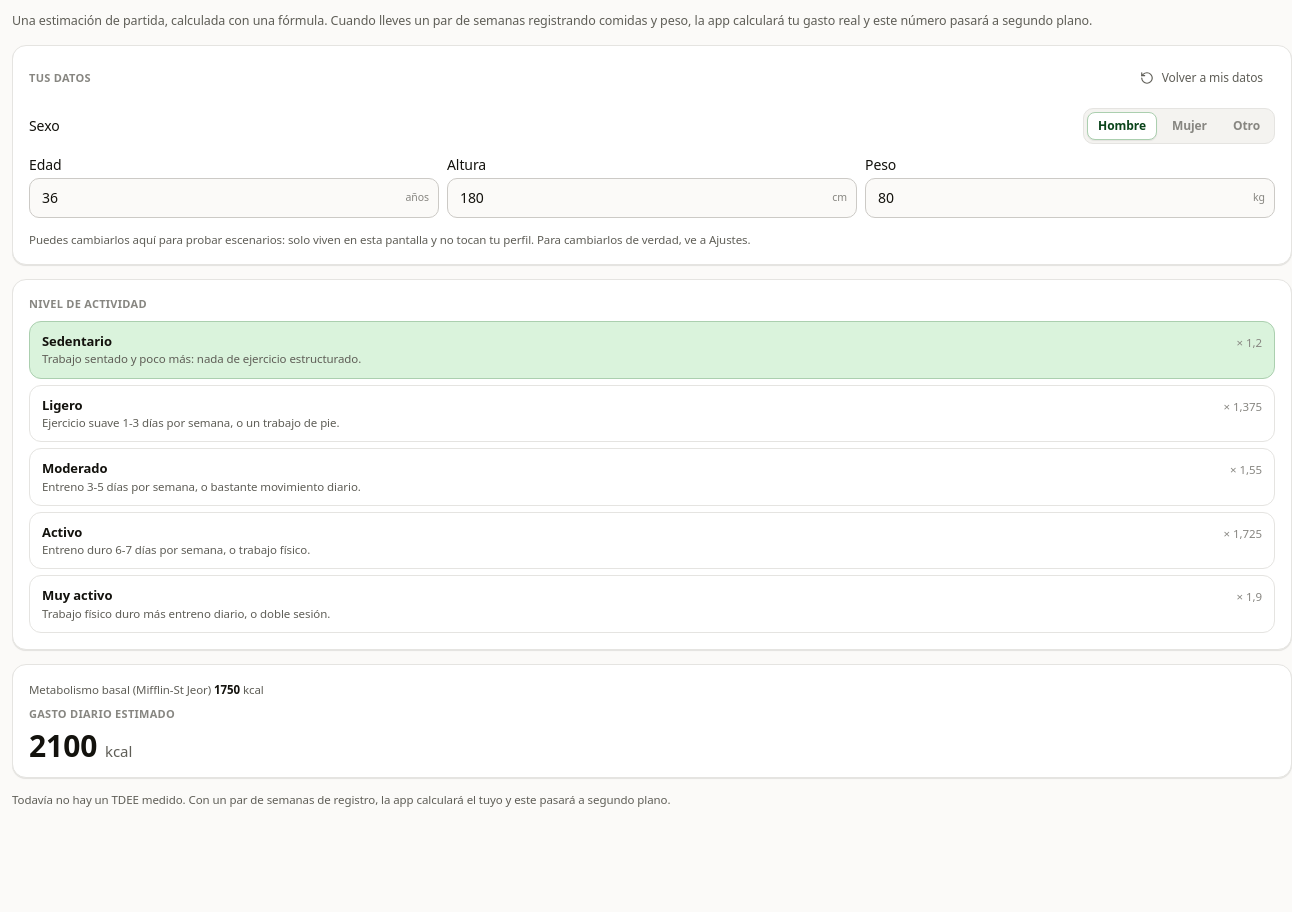
Test: TdeeCalculator › recomputes when the weight is edited, and withholds the result when cleared
Clear the field labelled "Peso" at (1070, 198), box 865,178 -> 1275,218
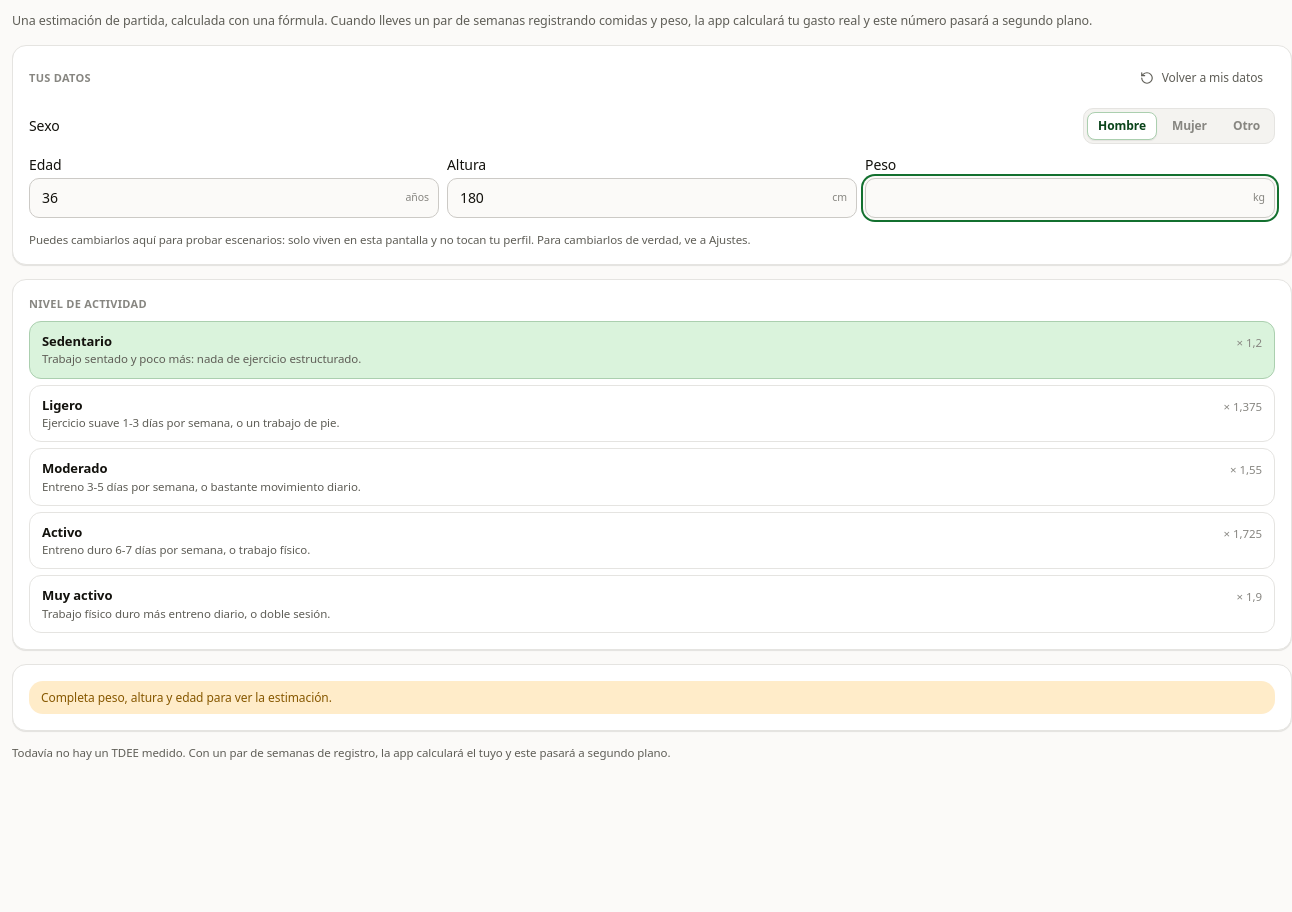
Expected: the element with test id "tdee-result" is gone
Expected: the message "Completa peso, altura y edad para ver la estimación." is shown, 29,681 -> 1275,714
Type "90" into the field labelled "Peso" at (1070, 198), box 865,178 -> 1275,218
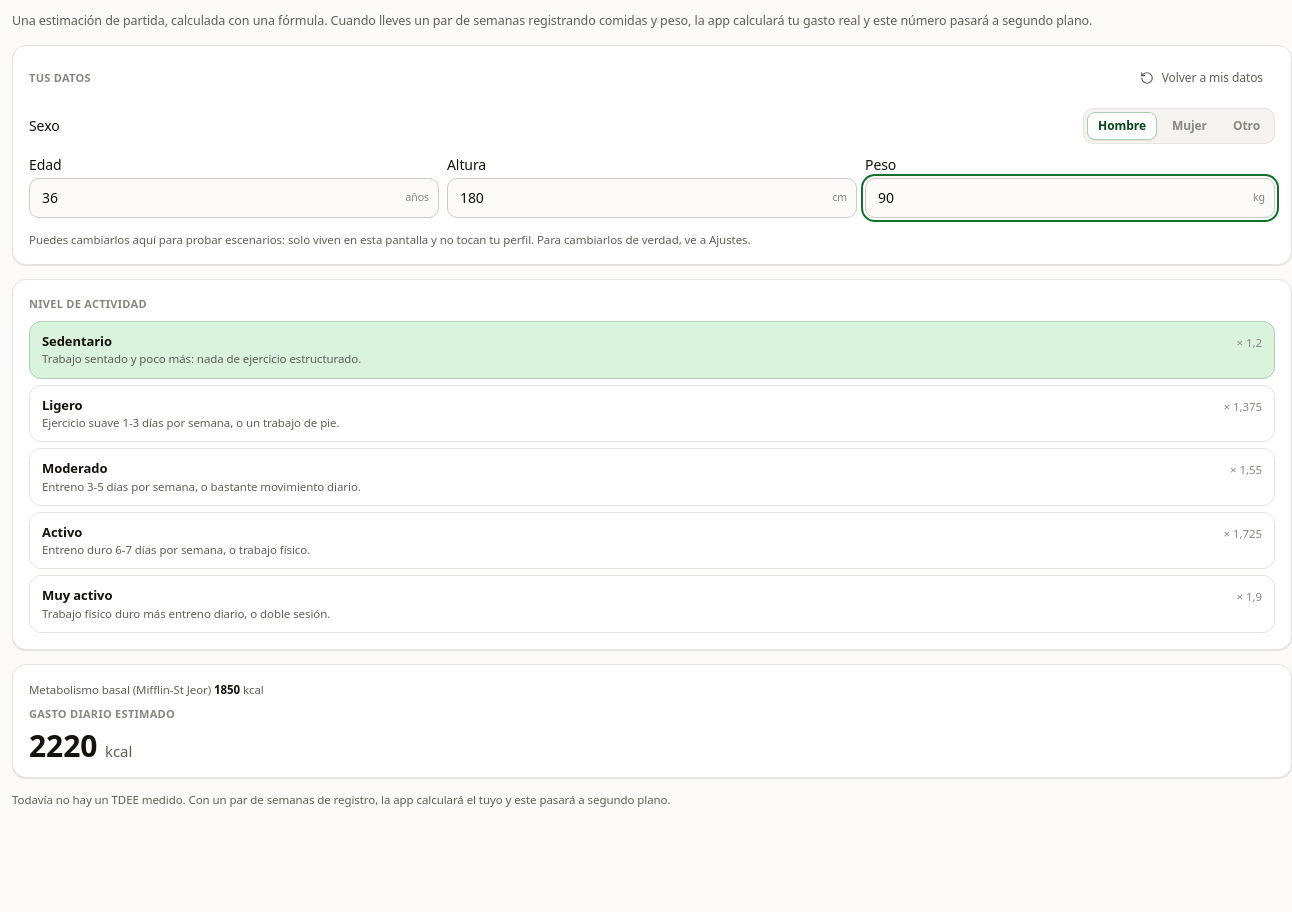
Expected: the element with test id "tdee-result" shows "2220", 29,725 -> 97,766
